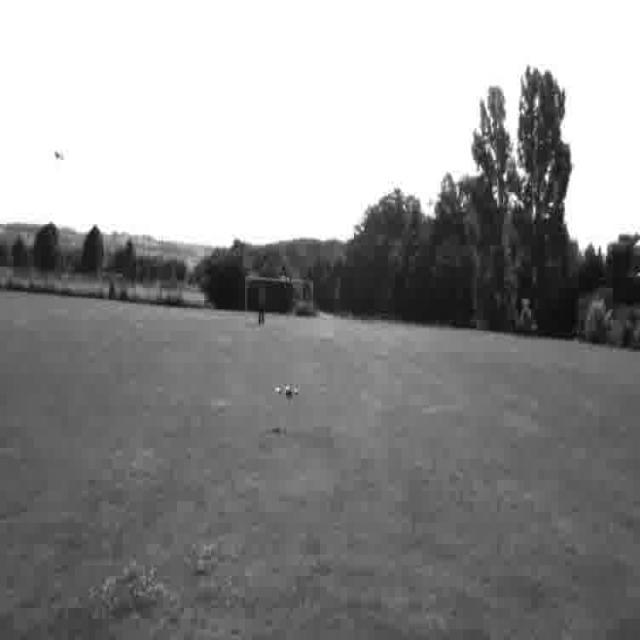drone: (272, 377, 300, 403)
